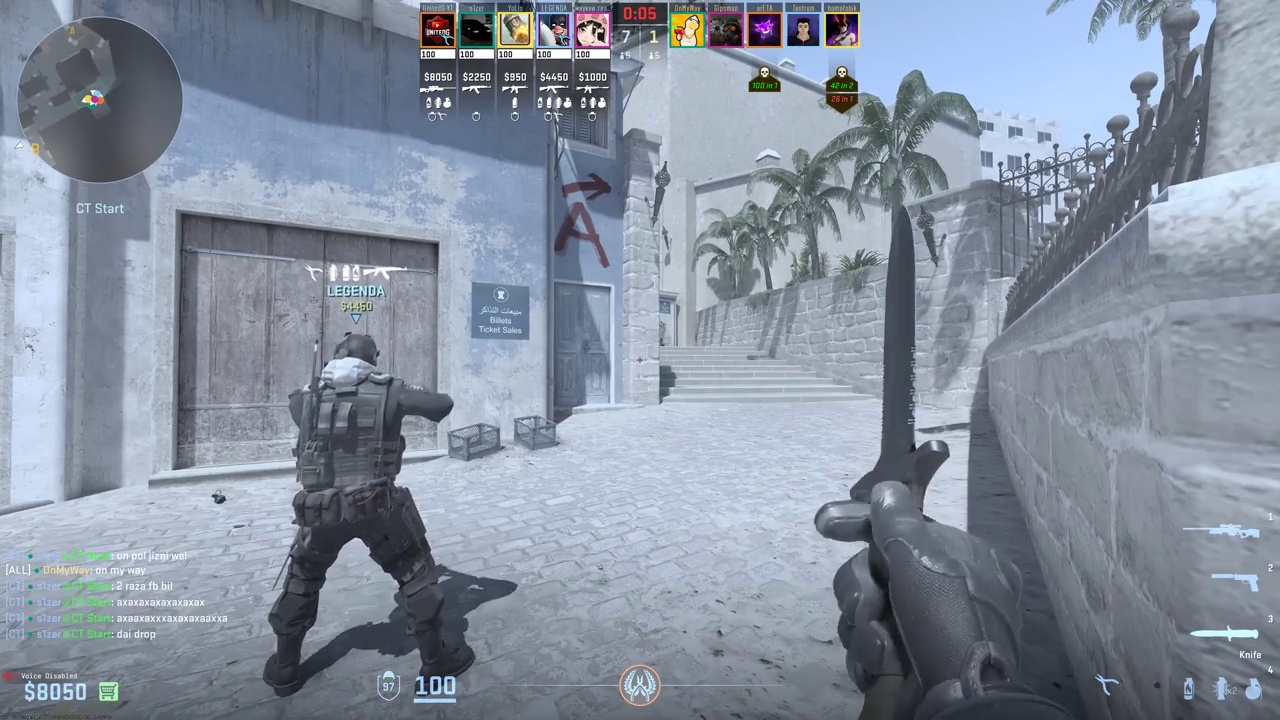CT: (269, 331, 447, 692)
